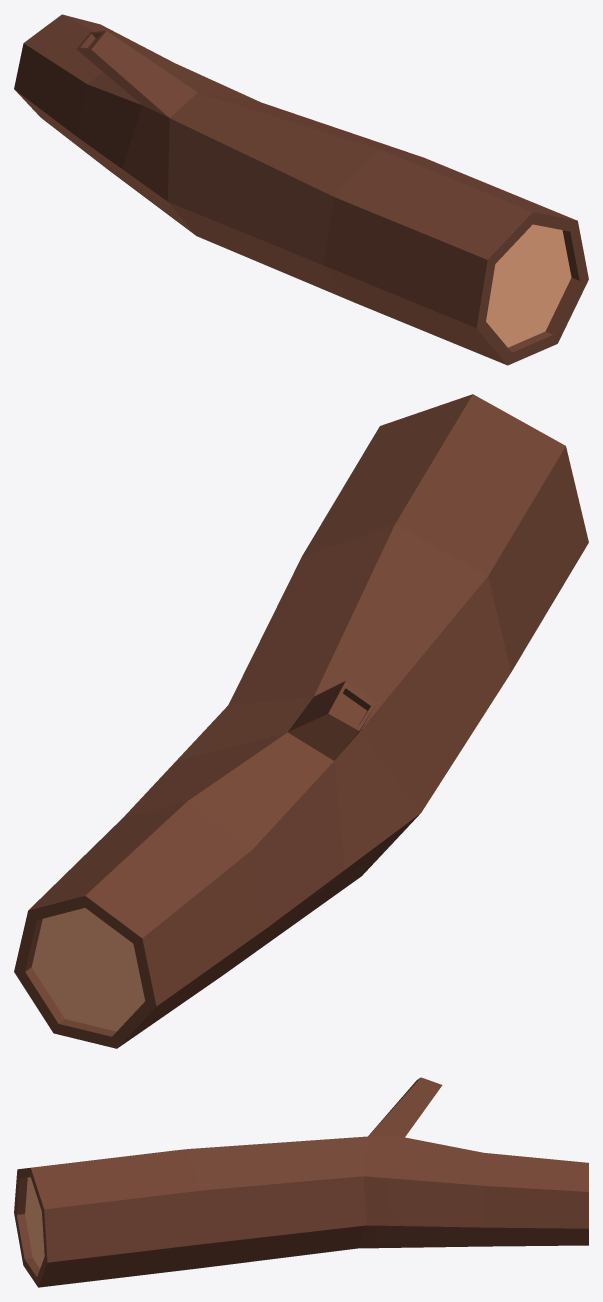
File: wooden_stick1.fbx
3 renders of one model, top to bottom at view 1: azimuth 30°, elevation 25°; view 2: azimuth 150°, elevation 25°; view 3: azimuth 270°, elevation 25°, orthographic. The views are drawn at different scales.
Parts seen in each view (by area): view 1: wooden_stick1; view 2: wooden_stick1; view 3: wooden_stick1.
Part boxes in pixels (x1,y1,x2,y2): wooden_stick1: [14, 14, 588, 365]; wooden_stick1: [14, 394, 588, 1048]; wooden_stick1: [14, 1077, 588, 1287].
Bounding box in the file's own units: 0.7402 × 0.4902 × 1.88.
